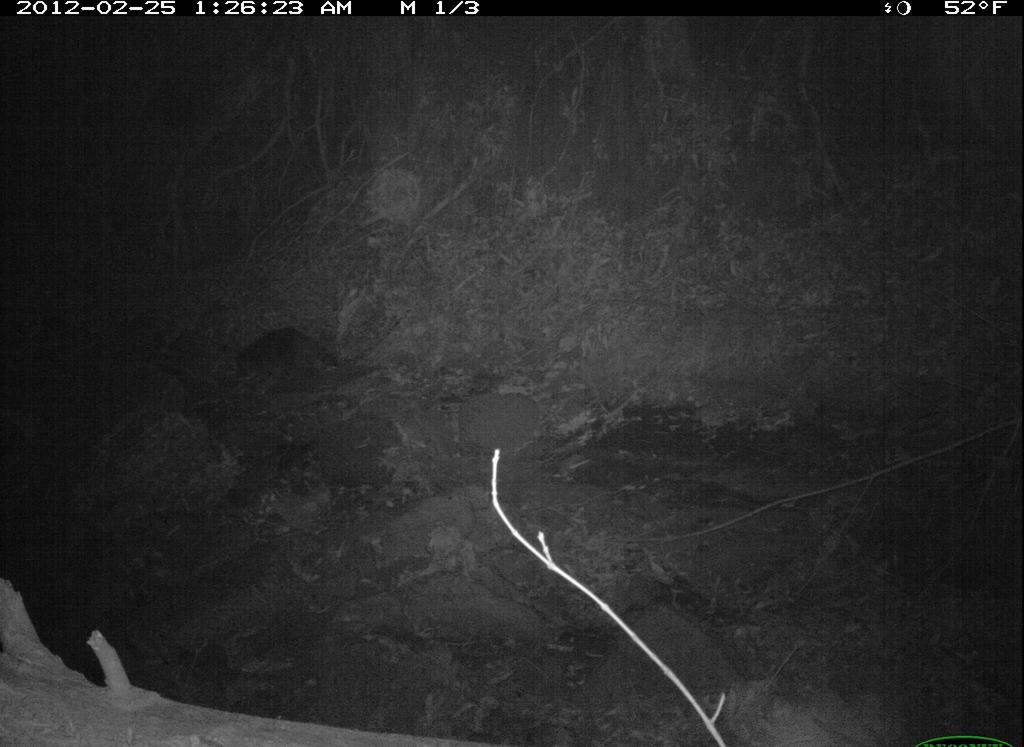raccoon: (226, 319, 364, 399)
